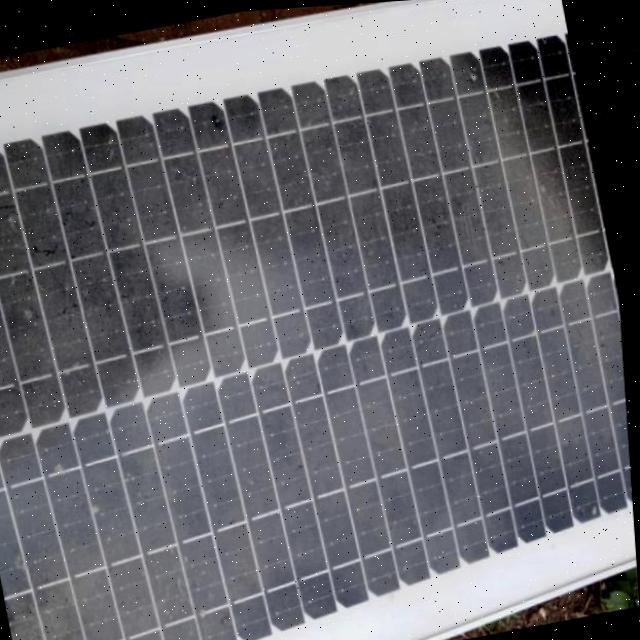Surface Contaminant: (0, 24, 636, 640)
